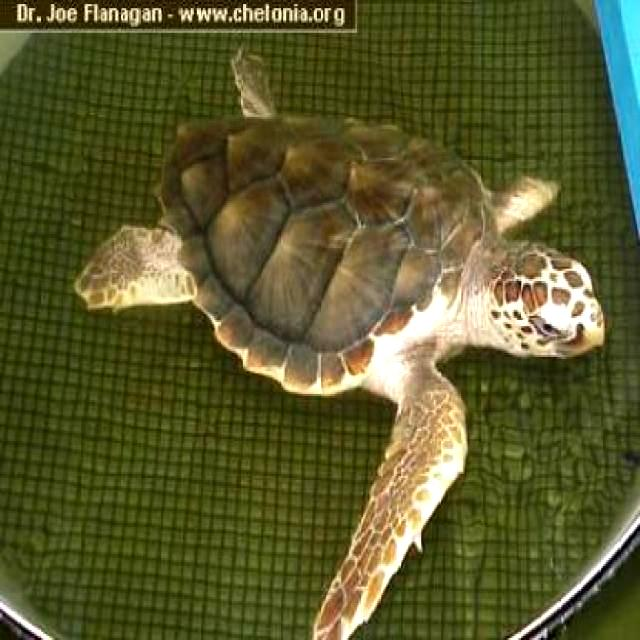Sea turtle: (68, 41, 610, 640)
